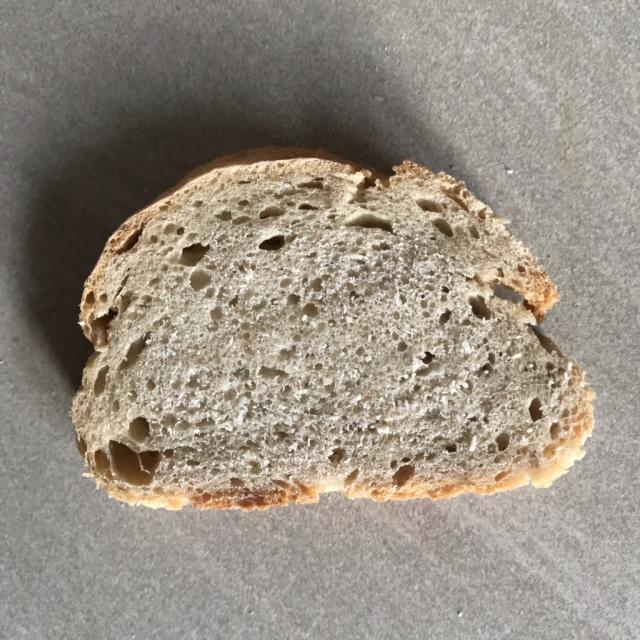bread: (77, 158, 583, 509)
